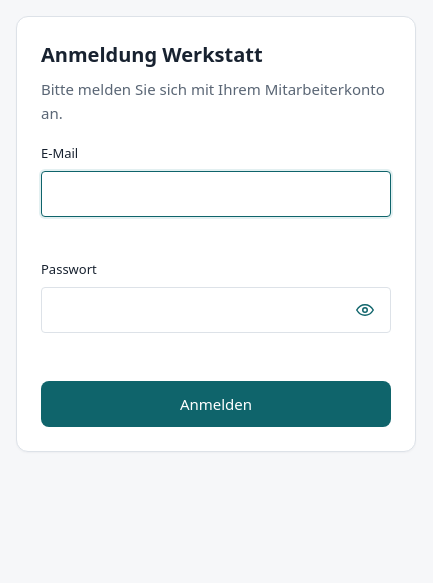
Test case: LoginPage › shows the rate-limit message on 429
Step 1. Type "meister@werkstatt-vogel.de" into the field labelled "E-Mail" → [216, 194], box [41,171,391,217]
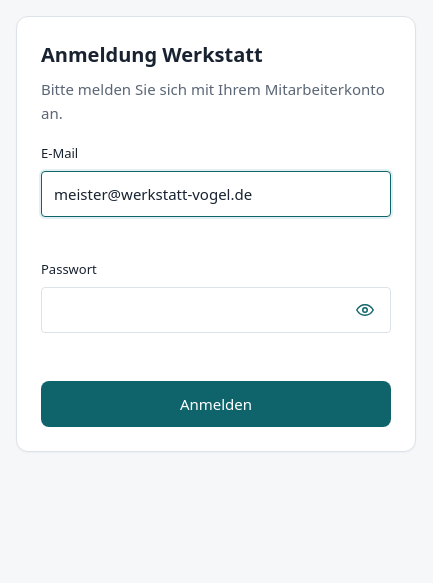
Step 2. Type "werkstatt2026" into the password field labelled "Passwort" → [216, 310], box [41,287,391,333]
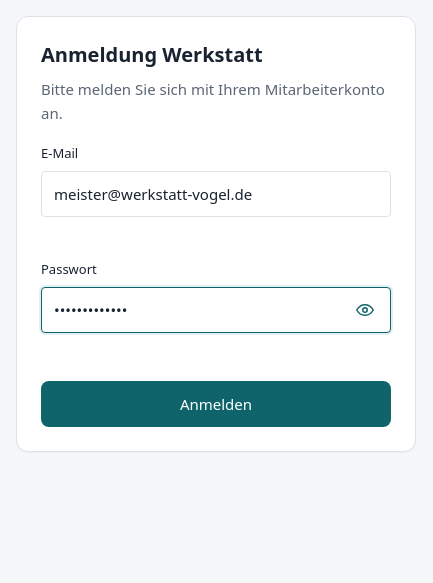
Step 3. Click the button "Anmelden" → [216, 404], box [41,381,391,427]
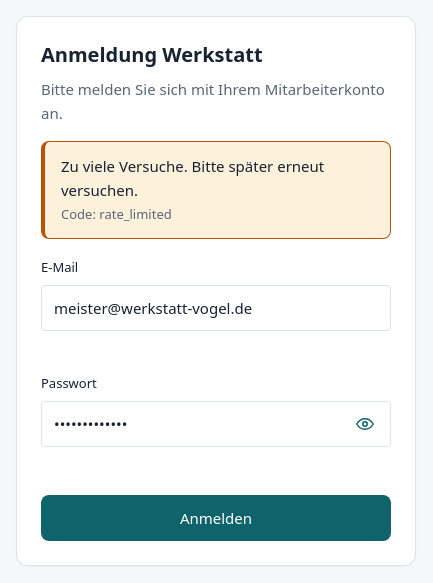
Check: the message shows "Zu viele Versuche. Bitte später erneut versuchen.", box [61,156,324,200]
Check: the message shows "rate_limited", box [99,205,172,223]
